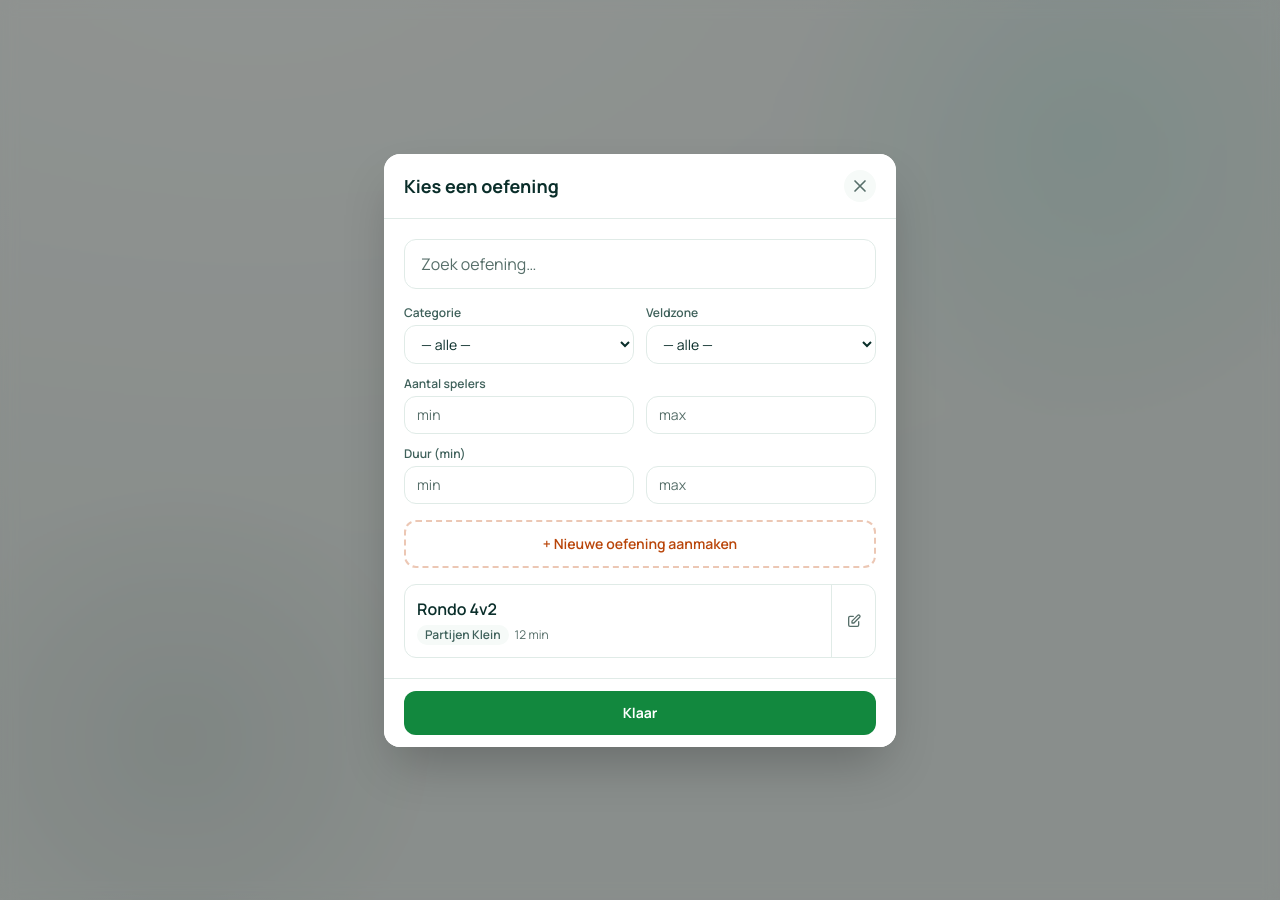
Test case: AC3 — picker: potlood op een rij opent hetzelfde bewerkformulier, vooringevuld › editor vervangt de sheet-inhoud (pickerTitle weg), velden vooringevuld, hint zichtbaar
Click the button named "Oefening bewerken: Rondo 4v2".
click(853, 620)  # box [831,584,875,656]
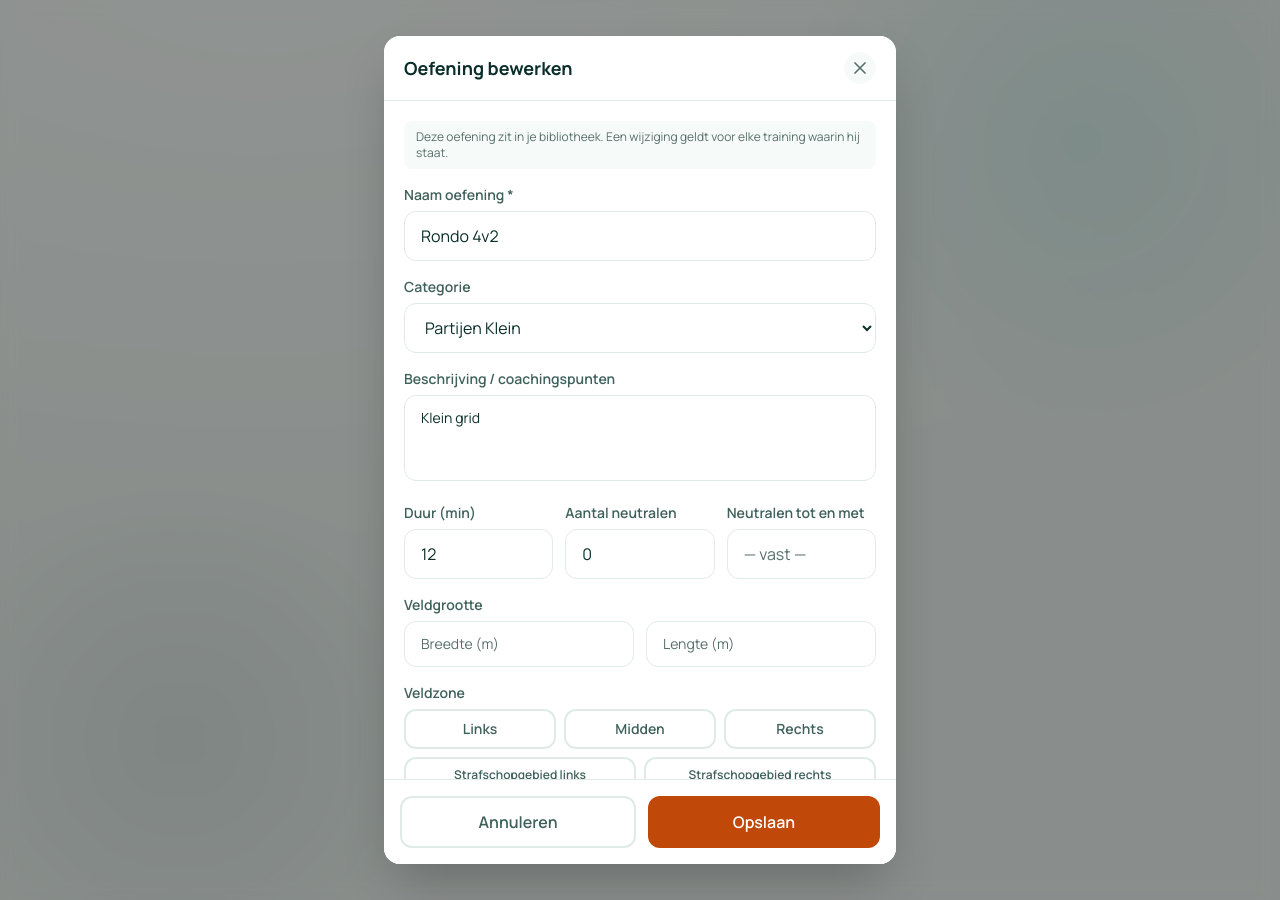
Now the heading "Kies een oefening" is gone
Now the heading "Oefening bewerken" is shown, box [404,54,573,82]
Now the text "Deze oefening zit in je bibliotheek. Een wijziging geldt voor elke training waarin hij staat." is shown, box [416,128,860,161]
